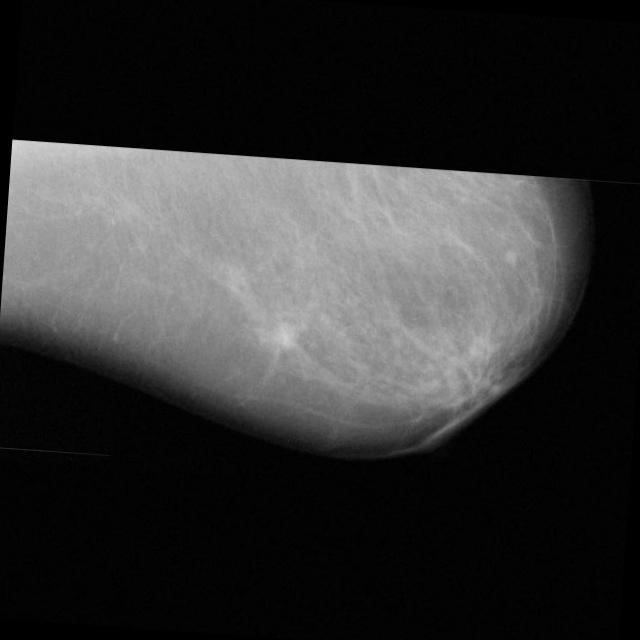ARCH: (228, 277, 344, 394)
